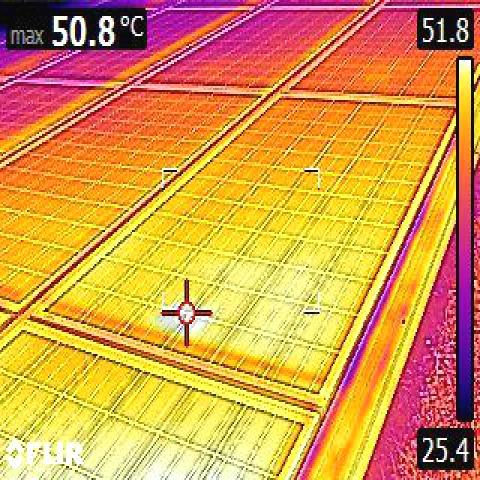fault: (155, 314, 175, 333)
